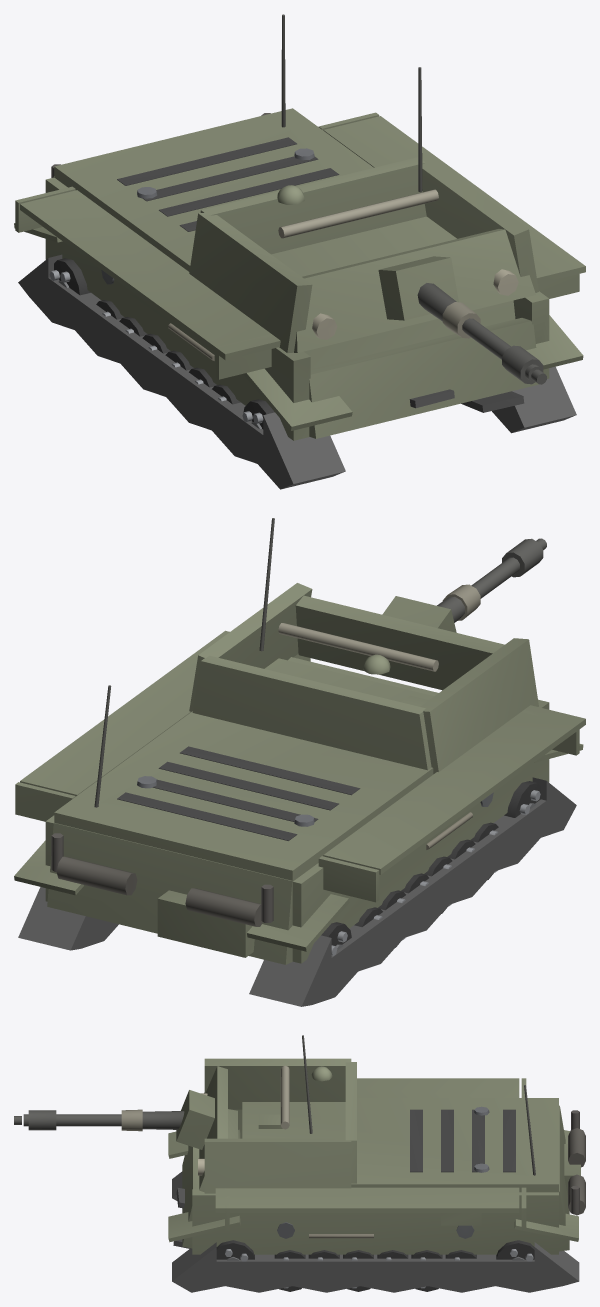
3 renders of one model, top to bottom at view 1: azimuth 30°, elevation 25°; view 2: azimuth 150°, elevation 25°; view 3: azimuth 270°, elevation 25°, orthographic. The views are drawn at different scales.
Visible parts, largest first — view 1: hullSide, hullTop, turretSide, tracks, mantlet, lowerPlate, glacis, barrel, turretRoof, wheel7; view 2: hullTop, hullSide, turretSide, tracks, hullRear, mantlet, turretRoof, barrel, glacis, wheel6; view 3: hullSide, hullTop, tracks, turretSide, mantlet, hullRear, barrel, turretRoof, lowerPlate, glacis, wheel14, wheel15.
Boxes of the visible parts, bbox=[...] form: hullSide: bbox=[15, 112, 585, 440]; hullTop: bbox=[54, 108, 456, 276]; turretSide: bbox=[189, 157, 538, 353]; tracks: bbox=[14, 223, 583, 489]; mantlet: bbox=[294, 229, 535, 352]; lowerPlate: bbox=[309, 318, 538, 438]; glacis: bbox=[304, 300, 524, 412]; barrel: bbox=[417, 283, 546, 384]; turretRoof: bbox=[277, 67, 438, 238]; wheel7: bbox=[49, 258, 90, 295]; hullTop: bbox=[54, 658, 433, 880]; hullSide: bbox=[15, 630, 585, 963]; turretSide: bbox=[189, 583, 538, 774]; tracks: bbox=[14, 744, 583, 1006]; hullRear: bbox=[47, 685, 294, 964]; mantlet: bbox=[295, 595, 504, 690]; turretRoof: bbox=[259, 518, 438, 674]; barrel: bbox=[437, 538, 546, 622]; glacis: bbox=[288, 657, 438, 706]; wheel6: bbox=[504, 781, 540, 817]; hullSide: bbox=[192, 1078, 558, 1254]; hullTop: bbox=[242, 1098, 558, 1192]; tracks: bbox=[168, 1129, 579, 1292]; turretSide: bbox=[204, 1058, 356, 1193]; mantlet: bbox=[176, 1066, 227, 1192]; hullRear: bbox=[524, 1085, 585, 1251]; barrel: bbox=[14, 1109, 184, 1131]; turretRoof: bbox=[280, 1035, 332, 1133]; lowerPlate: bbox=[182, 1145, 199, 1248]; glacis: bbox=[173, 1109, 282, 1248]; wheel14: bbox=[216, 1240, 254, 1261]; wheel15: bbox=[496, 1240, 534, 1261].
Bounding box in the file's own units: 3.78 × 3.18 × 7.02.
